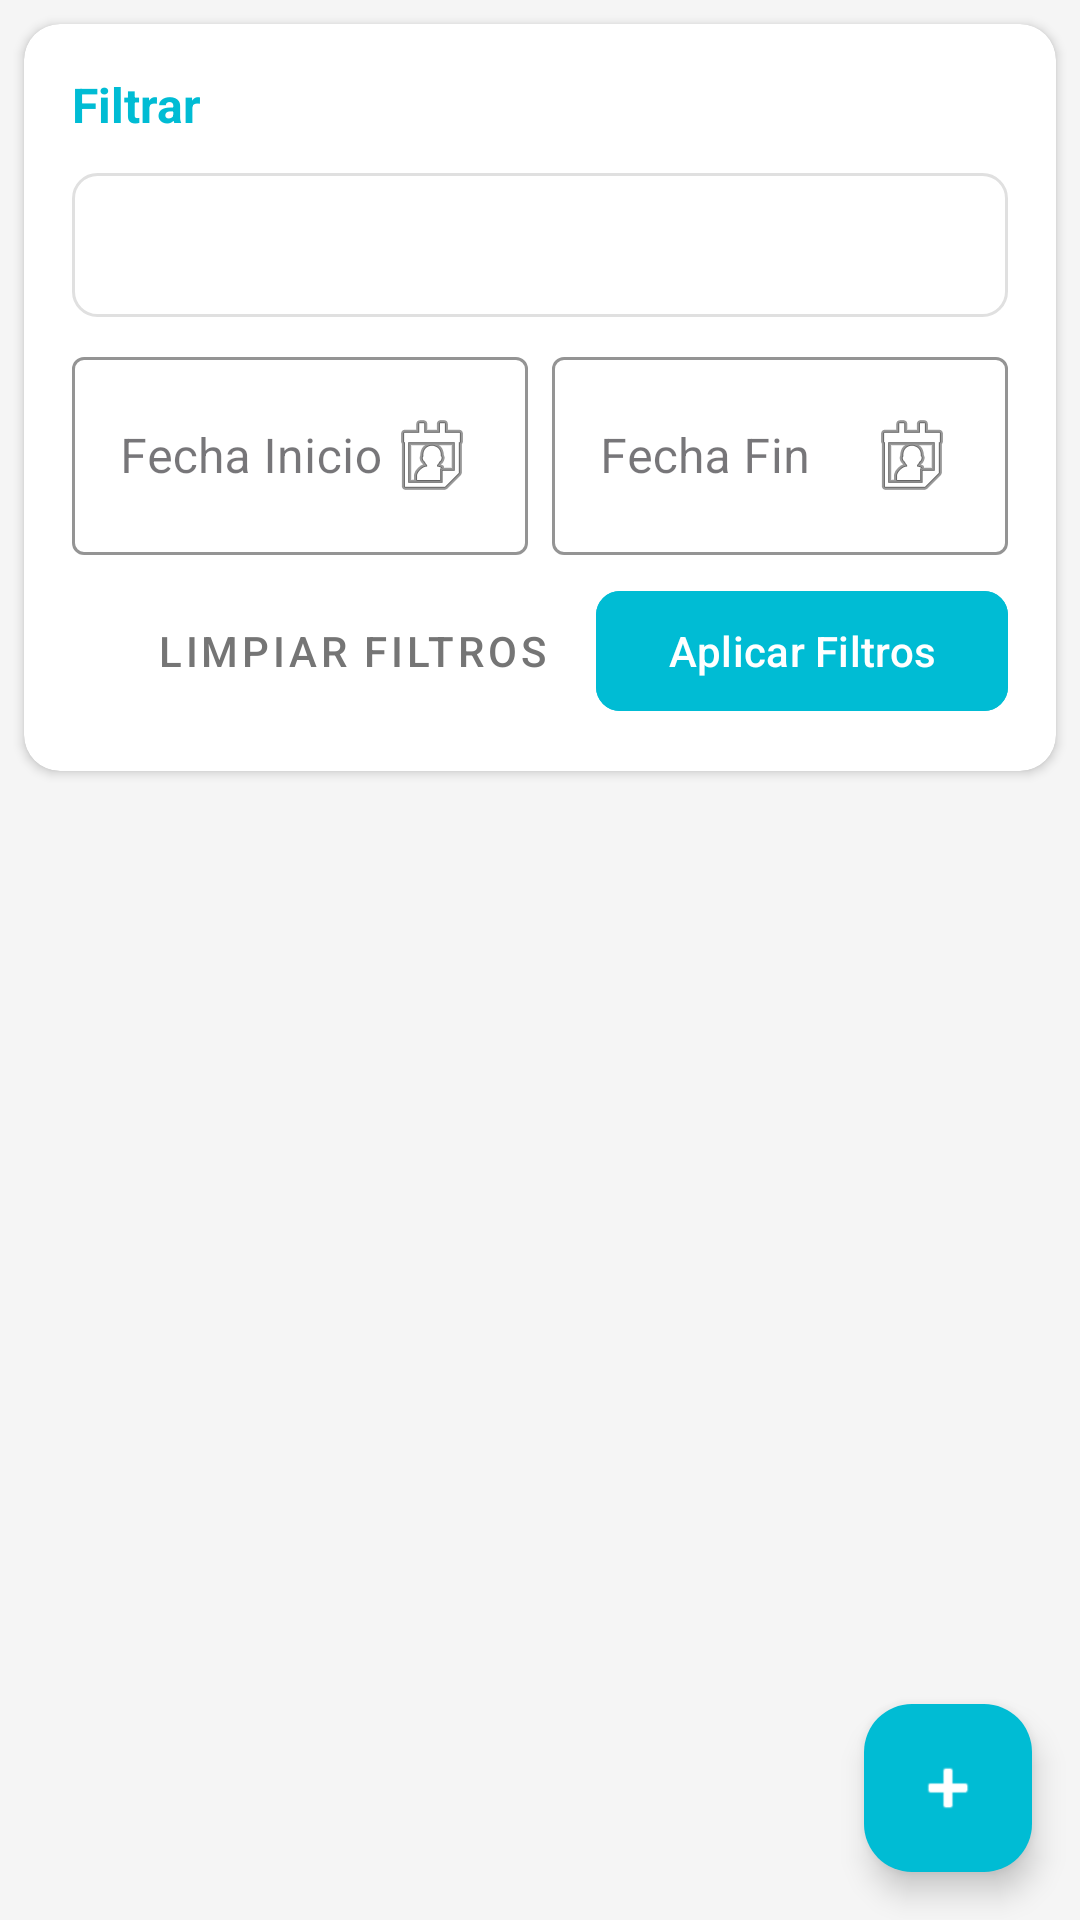

Named icons in this screenshot (1080 × 1920) and their centers, (x,y):
Agregar Registro: (948,1788)
